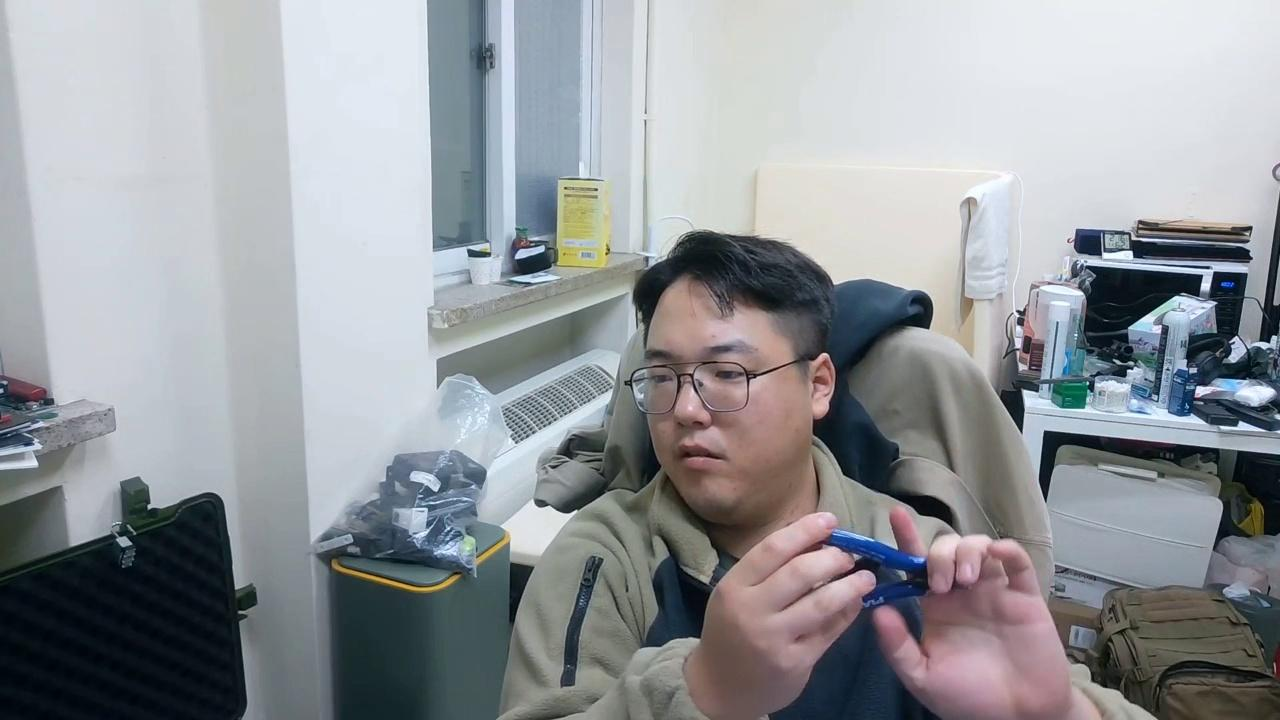blue_pliers: (822, 527, 932, 611)
